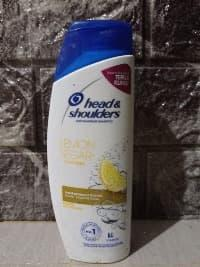Plastik: (47, 21, 143, 262)
